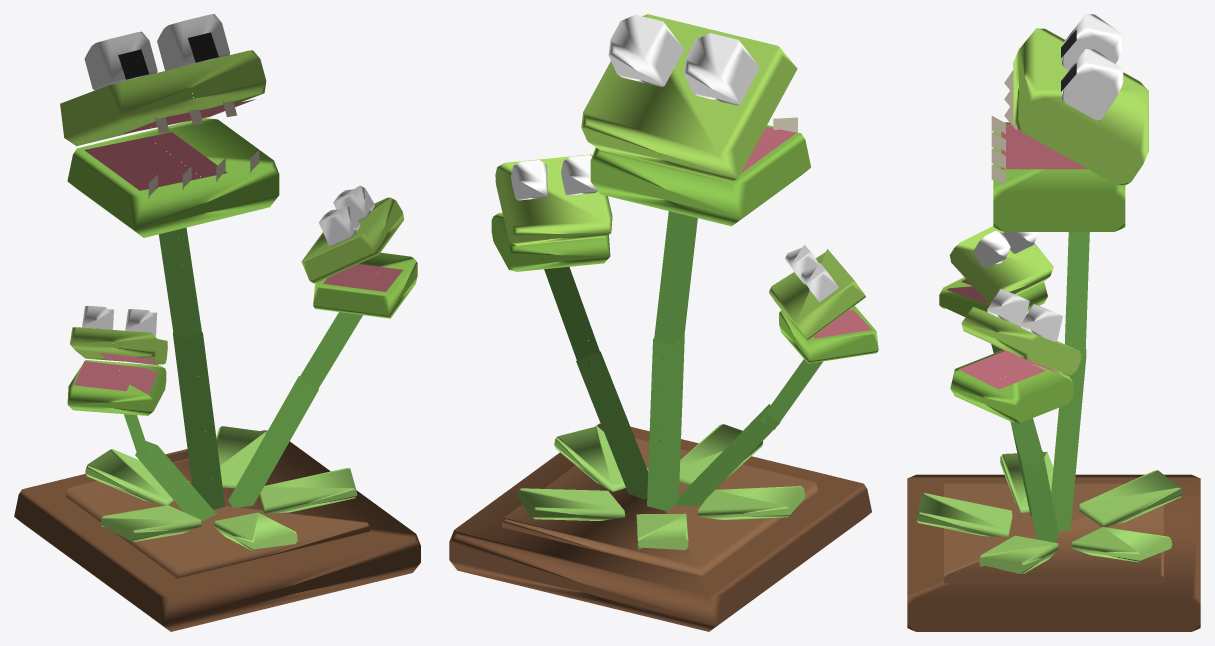
File: venus-flytrap-poly-by-google_0y4ZpRcGhoD-blocky_lod1.glb
3 views of the same model, side by side, from view 1: azimuth 30°, elevation 25°; view 2: azimuth 150°, elevation 25°; view 3: azimuth 270°, elevation 25° (orthographic). The views are drawn at different scales.
Visible parts, largest first — view 1: VenusFlyTrap_mesh; view 2: VenusFlyTrap_mesh; view 3: VenusFlyTrap_mesh.
Boxes of the visible parts, bbox=[...] form: VenusFlyTrap_mesh: bbox=[14, 14, 420, 631]; VenusFlyTrap_mesh: bbox=[449, 14, 878, 631]; VenusFlyTrap_mesh: bbox=[907, 14, 1200, 631].
Size of the model in its own units: 7.84 by 10.78 by 5.6.
1 material, 1 textured.
